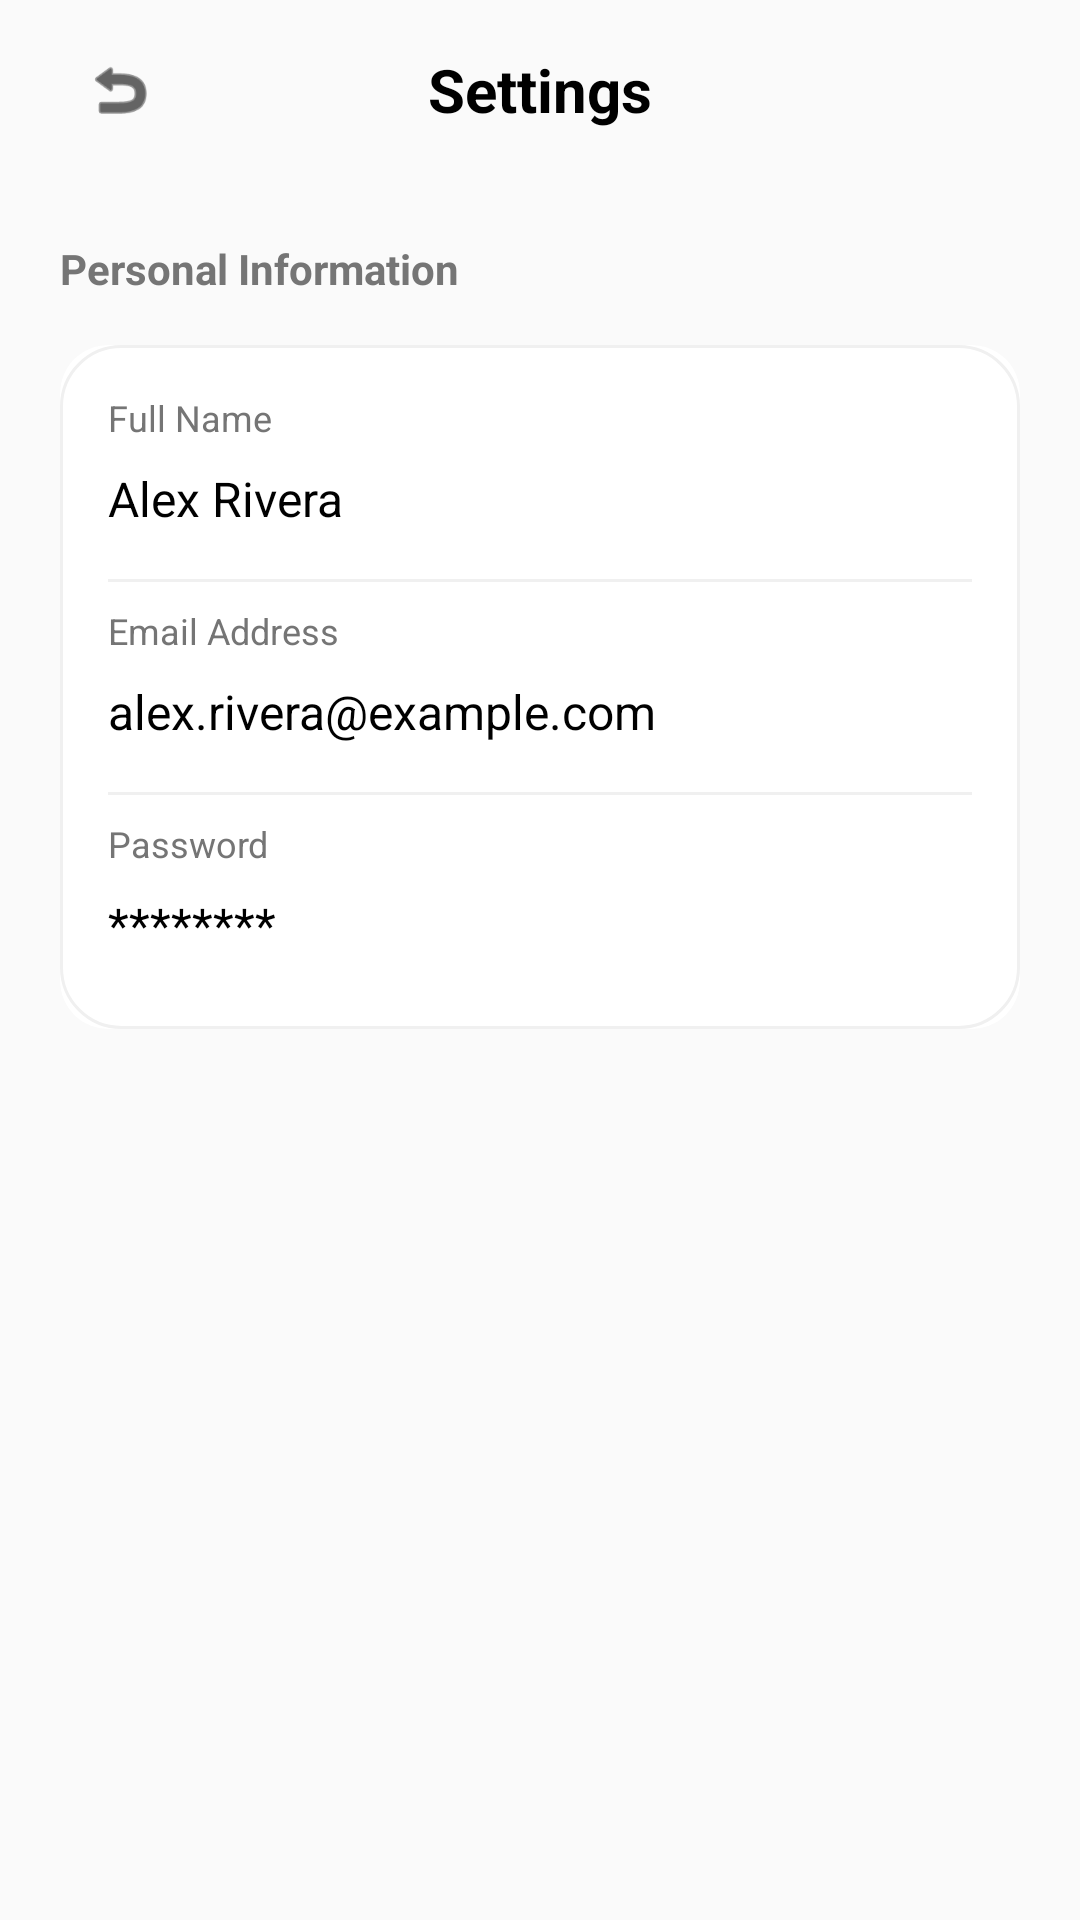

Named icons in this screenshot (1080px×1920px) and their bounding boxes, [x1,y1,x2,y2]:
revert: [95,67,147,114]
